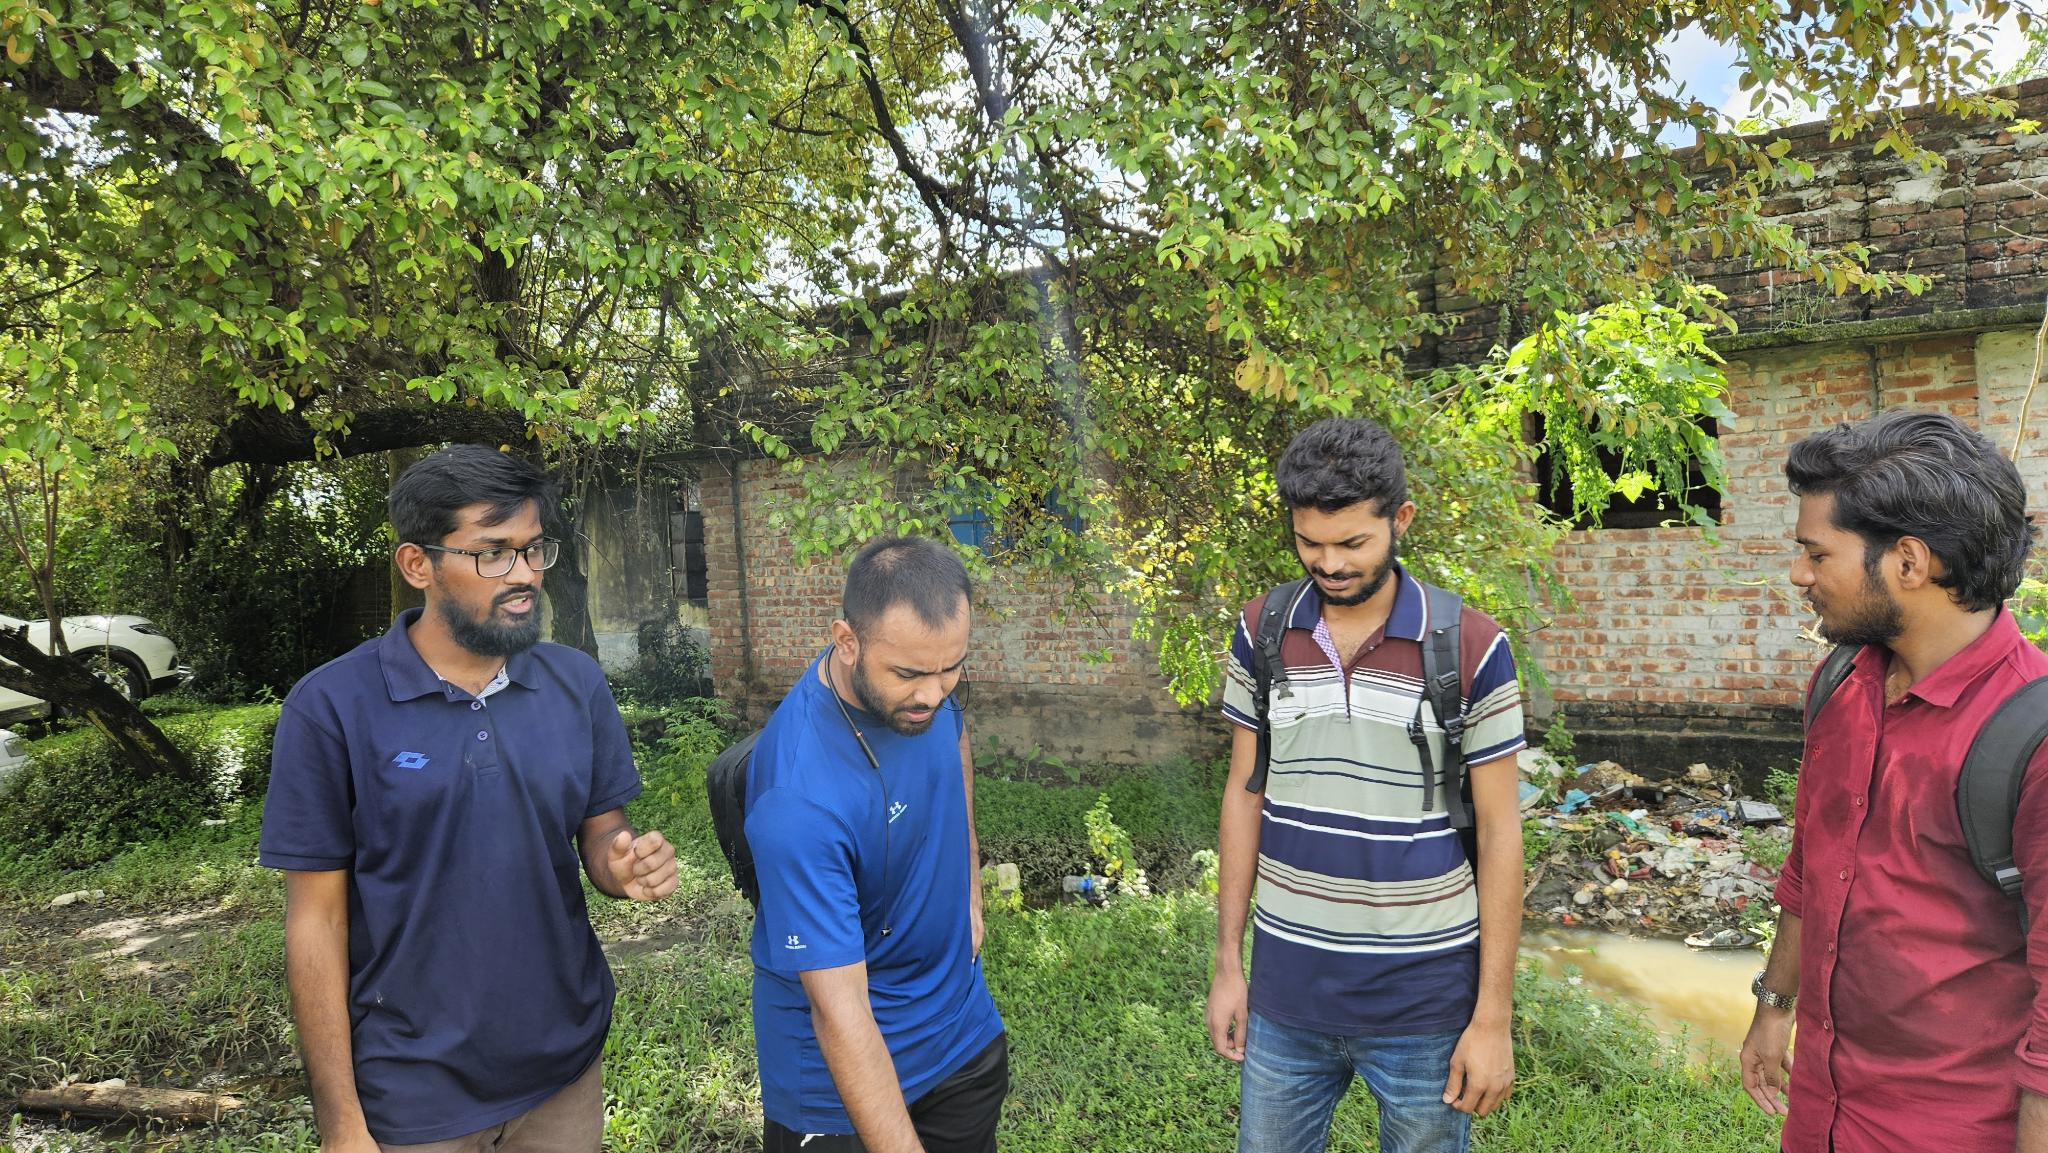nonSmoker: (259, 443, 678, 1153), (1211, 418, 1528, 1153), (1739, 411, 2048, 1153), (706, 537, 1010, 1153)
